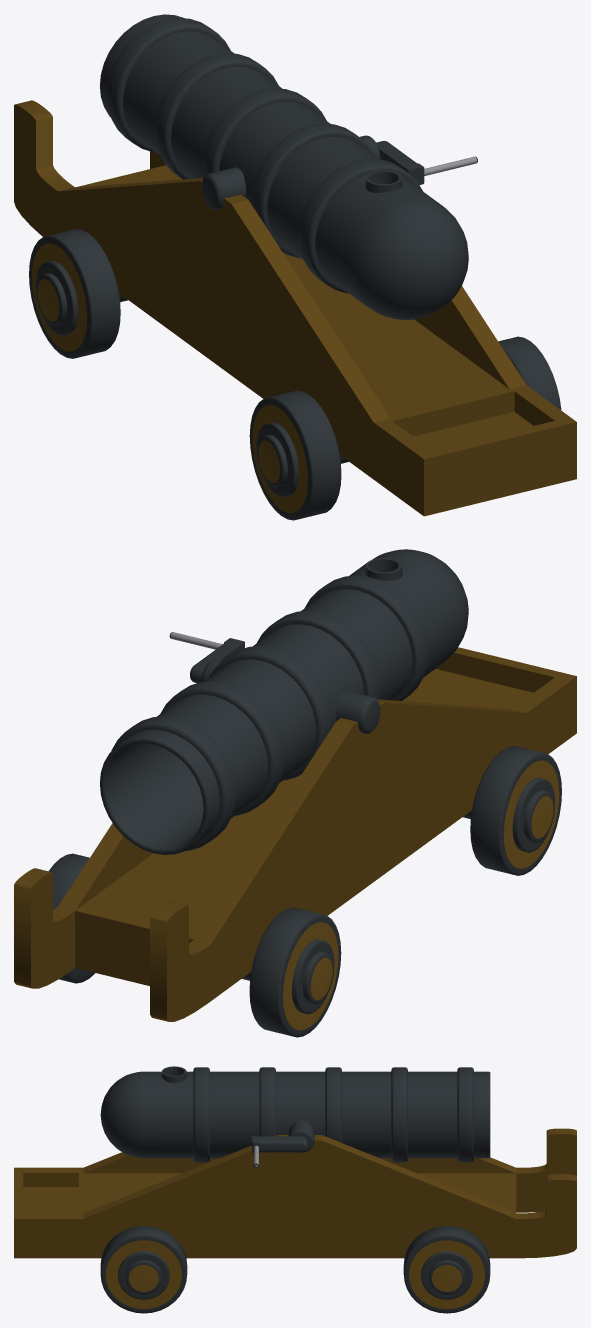
Rendered from Cannon.fbx.
The picture shows the model from 3 angles, top to bottom: view 1: azimuth 30°, elevation 25°; view 2: azimuth 150°, elevation 25°; view 3: azimuth 270°, elevation 25°; orthographic projection. The views are drawn at different scales.
Visible parts, largest first — view 1: Cannon Support, Cannon, Rear Wheels, Front Wheels; view 2: Cannon Support, Cannon, Front Wheels, Rear Wheels; view 3: Cannon Support, Cannon, Front Wheels, Rear Wheels.
Part boxes in pixels (box(x1,y1,x2,y2)): Cannon Support: box(14, 100, 576, 516); Cannon: box(100, 14, 477, 319); Rear Wheels: box(249, 336, 561, 520); Front Wheels: box(29, 229, 127, 358); Cannon Support: box(14, 647, 576, 1021); Cannon: box(100, 549, 468, 854); Front Wheels: box(49, 853, 341, 1037); Rear Wheels: box(463, 746, 561, 875); Cannon Support: box(14, 1128, 576, 1258); Cannon: box(100, 1066, 490, 1167); Front Wheels: box(403, 1226, 490, 1313); Rear Wheels: box(100, 1226, 187, 1313).
Bounding box in the file's own units: 159 × 153 × 390.
1 material, 1 textured.
